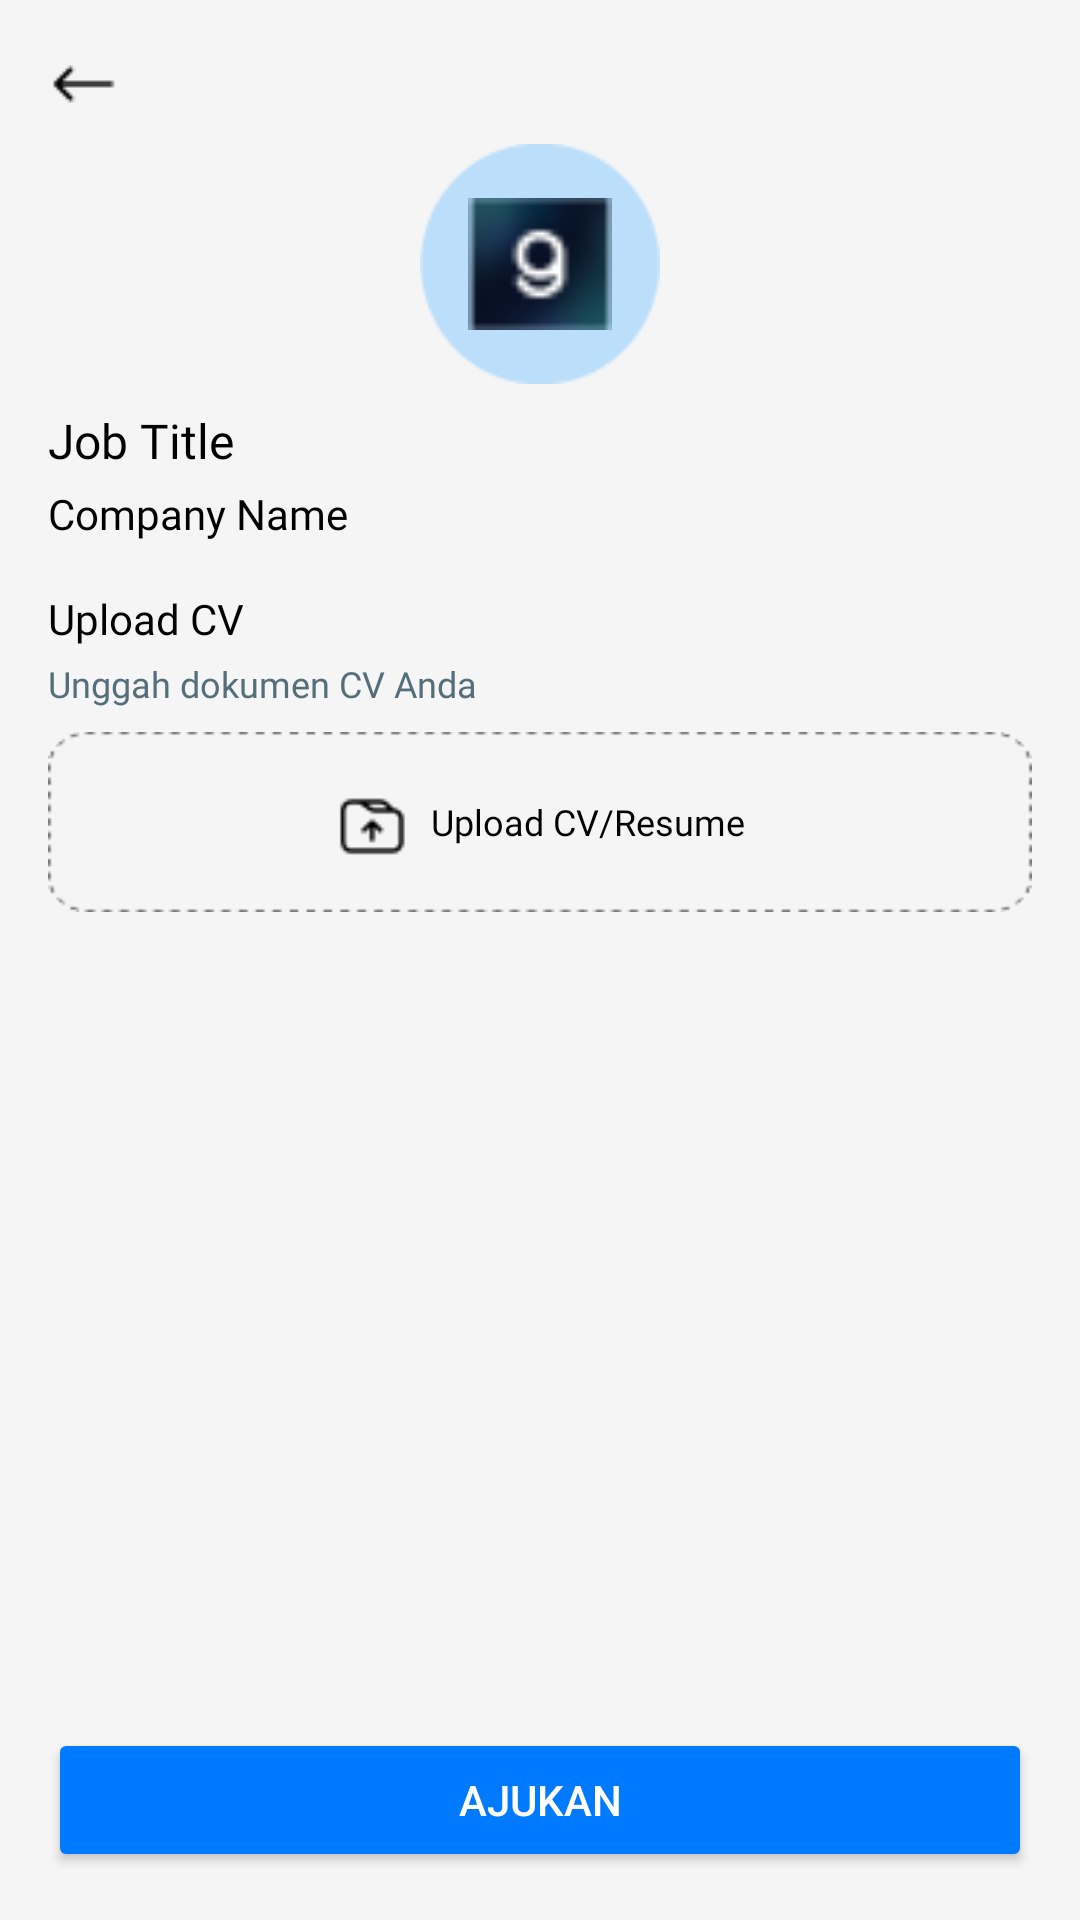

Screen size 1080*1920. Icon name, then its box in pixels as (x1, y1, x2, y2):
Back: (53, 65, 115, 103)
